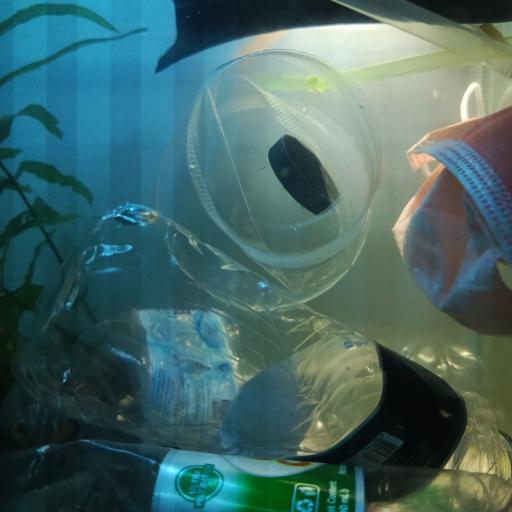bottle_cap: (268, 133, 338, 215)
mask: (392, 83, 512, 338), (157, 0, 512, 69)
plastic_bottle: (14, 202, 512, 506), (27, 312, 479, 448), (0, 438, 512, 512)
plastic_cup: (157, 50, 383, 310)
plastic_straw: (334, 0, 512, 80), (258, 37, 512, 92)
